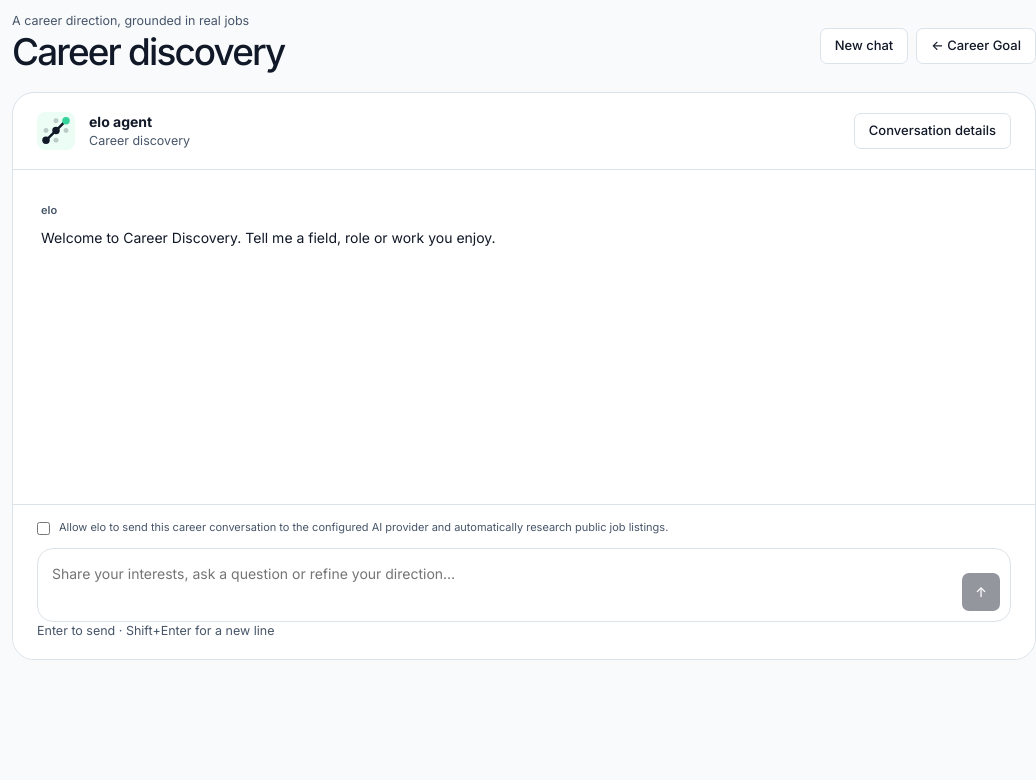
Test: starts a session and automatic research only after the user sends a message
Expected: the text "Welcome to Career Discovery. Tell me a field, role or work you enjoy." is shown, [41,229,496,246]
Click the checkbox labelled "Allow elo" at (44, 528), box [37,521,50,536]
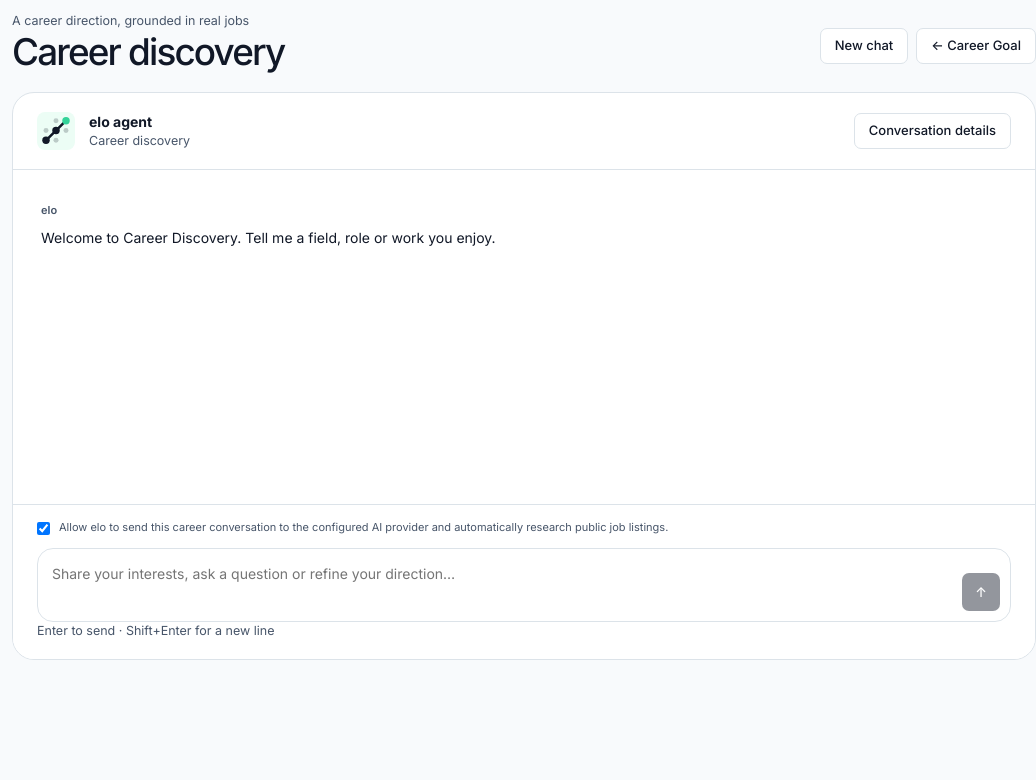
Replace the text in the text box named "Message elo" with "Software engineering, keep it broad" at (500, 585), box [48,558,952,611]
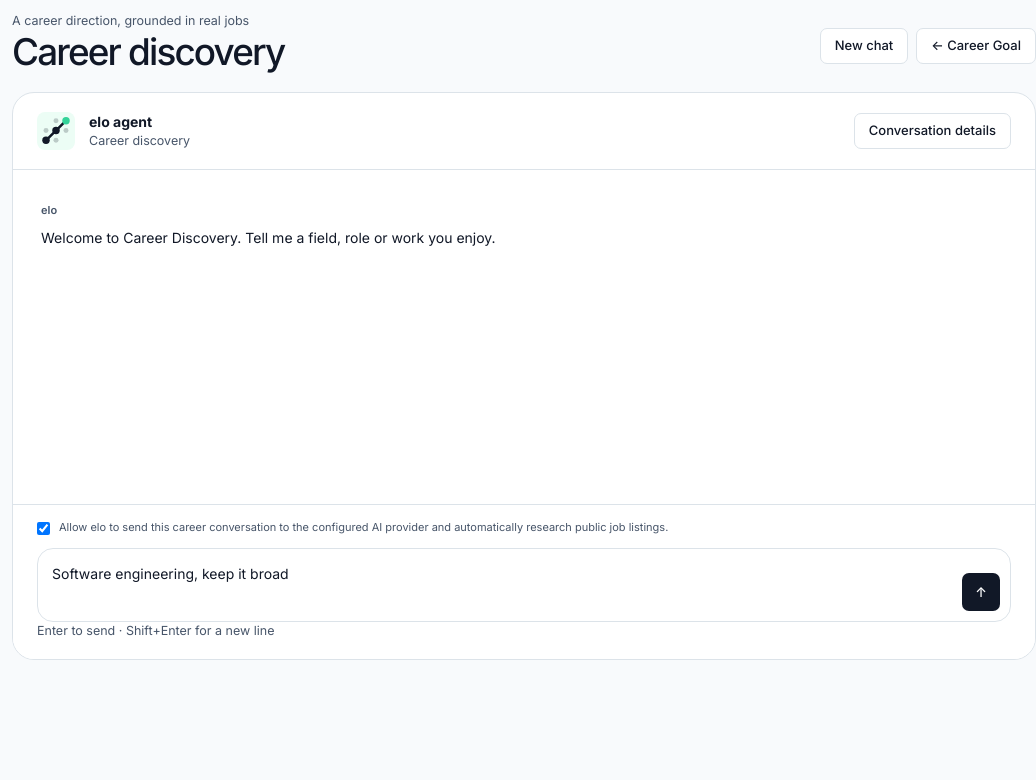
Click the button named "Send message" at (981, 592), box [962,573,1000,611]
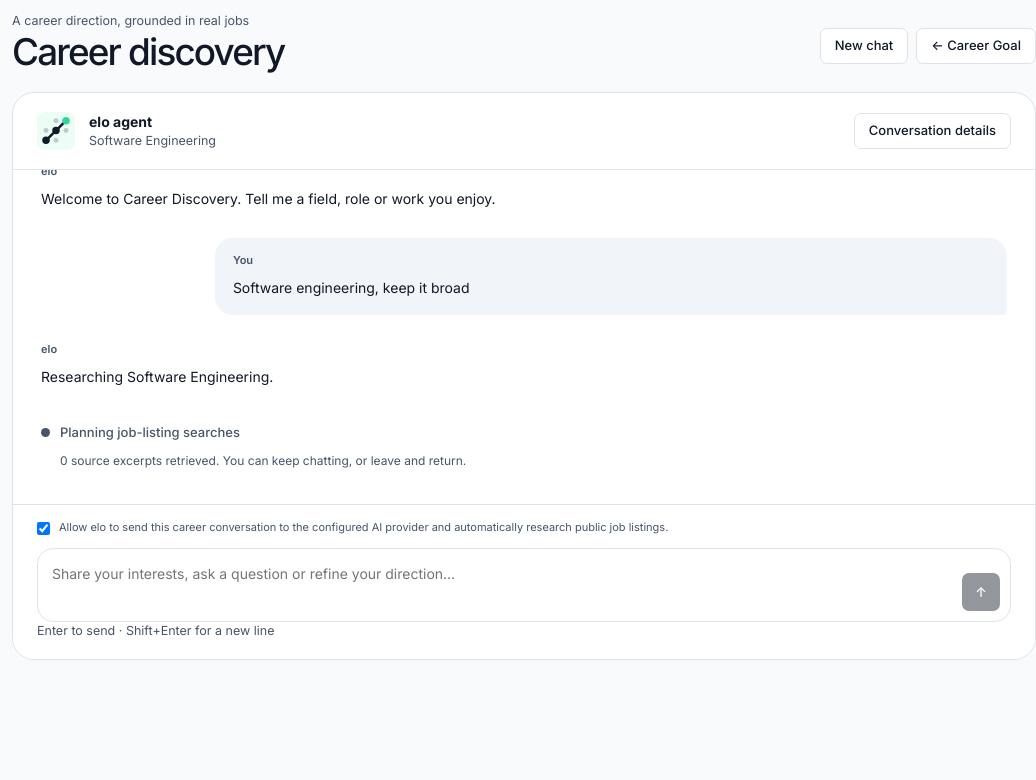
Result: the text box named "Message elo" is empty at [48,558,952,611]
Result: the text "Planning job-listing searches" is shown at [60,422,240,443]
Result: the text "Welcome to Career Discovery. Tell me a field, role or work you enjoy." is shown once at [41,190,496,207]
